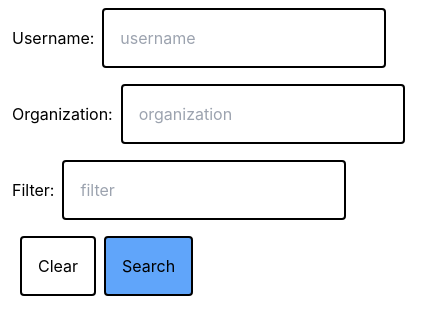
Test case: SearchForm › clears the input values when Clear button is clicked
Type "test user" into the field labelled "Username:" at (244, 38), box [102,8,386,68]
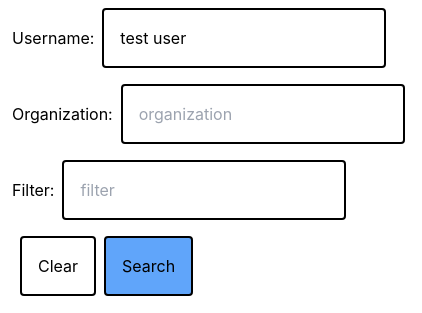
Type "test org" into the field labelled "Organization:" at (263, 114), box [121,84,405,144]
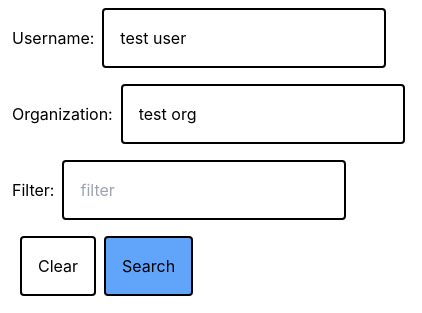
Type "test filter" into the field labelled "Filter:" at (204, 190), box [62,160,346,220]
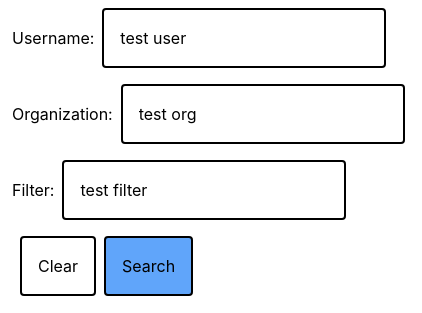
Click the button "Clear" at (58, 266), box [20,236,96,296]
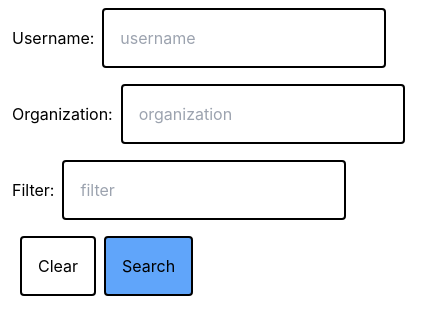
Expected: the field labelled "Username:" is empty, [102,8,386,68]
Expected: the field labelled "Organization:" is empty, [121,84,405,144]
Expected: the field labelled "Filter:" is empty, [62,160,346,220]
